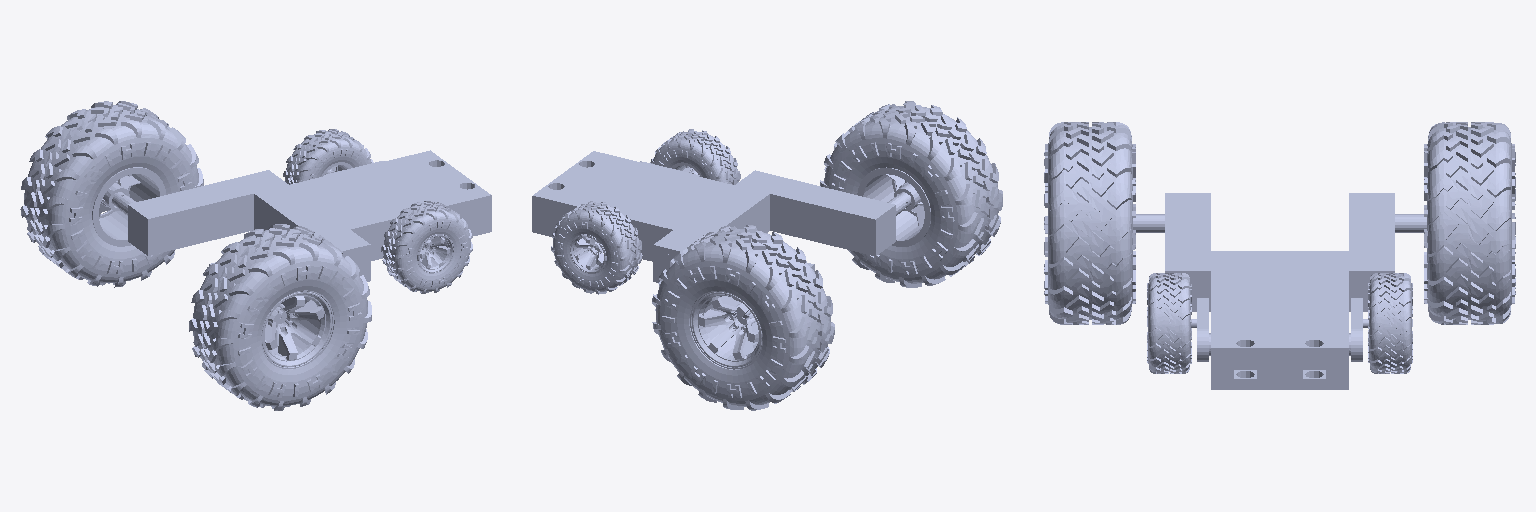
URDF robot description (optimus_rear):
<?xml version="1.0" encoding="utf-8"?>
<!-- This URDF was automatically created by SolidWorks to URDF Exporter! Originally created by [author] ([email redacted]) 
     Commit Version: 1.6.0-1-g15f4949  Build Version: 1.6.7594.29634
     For more information, please see http://wiki.ros.org/sw_urdf_exporter -->
<robot
  name="optimus_rear">
  <link
    name="optimus_rear">
    <inertial>
      <origin
        xyz="-0.032745 -5.5511E-17 0.43999"
        rpy="0 0 0" />
      <mass
        value="122.38" />
      <inertia
        ixx="4.8763"
        ixy="4.5526E-16"
        ixz="0.00048288"
        iyy="10.603"
        iyz="-1.9615E-16"
        izz="14.68" />
    </inertial>
    <visual>
      <origin
        xyz="0 0 0"
        rpy="0 0 0" />
      <geometry>
        <mesh
          filename="package://optimus_rear/meshes/optimus_rear.STL" />
      </geometry>
      <material
        name="">
        <color
          rgba="0.79216 0.81961 0.93333 1" />
      </material>
    </visual>
    <collision>
      <origin
        xyz="0 0 0"
        rpy="0 0 0" />
      <geometry>
        <mesh
          filename="package://optimus_rear/meshes/optimus_rear.STL" />
      </geometry>
    </collision>
  </link>
  <link
    name="RR_outer_wheel_connector_link">
    <inertial>
      <origin
        xyz="-0.32228 -0.1 -3.7623E-17"
        rpy="0 0 0" />
      <mass
        value="27.916" />
      <inertia
        ixx="0.19555"
        ixy="-3.124E-17"
        ixz="-1.1044E-17"
        iyy="1.4236"
        iyz="-4.1633E-19"
        izz="1.4141" />
    </inertial>
    <visual>
      <origin
        xyz="0 0 0"
        rpy="0 0 0" />
      <geometry>
        <mesh
          filename="package://optimus_rear/meshes/RR_outer_wheel_connector_link.STL" />
      </geometry>
      <material
        name="">
        <color
          rgba="0.79216 0.81961 0.93333 1" />
      </material>
    </visual>
    <collision>
      <origin
        xyz="0 0 0"
        rpy="0 0 0" />
      <geometry>
        <mesh
          filename="package://optimus_rear/meshes/RR_outer_wheel_connector_link.STL" />
      </geometry>
    </collision>
  </link>
  <joint
    name="RR_outer_wheel_connector_joint"
    type="revolute">
    <origin
      xyz="-0.4 -0.3 0.44"
      rpy="0 0 0" />
    <parent
      link="optimus_rear" />
    <child
      link="RR_outer_wheel_connector_link" />
    <axis
      xyz="0 -1 0" />
    <limit
      lower="0"
      upper="0"
      effort="0"
      velocity="0" />
  </joint>
  <link
    name="RR_outer_wheel_link">
    <inertial>
      <origin
        xyz="3.1807E-06 -0.51235 -4.8697E-07"
        rpy="0 0 0" />
      <mass
        value="41.762" />
      <inertia
        ixx="2.9874"
        ixy="7.5461E-06"
        ixz="-2.8589E-06"
        iyy="4.6324"
        iyz="-1.1613E-06"
        izz="2.9874" />
    </inertial>
    <visual>
      <origin
        xyz="0 0 0"
        rpy="0 0 0" />
      <geometry>
        <mesh
          filename="package://optimus_rear/meshes/RR_outer_wheel_link.STL" />
      </geometry>
      <material
        name="">
        <color
          rgba="0.79216 0.81961 0.93333 1" />
      </material>
    </visual>
    <collision>
      <origin
        xyz="0 0 0"
        rpy="0 0 0" />
      <geometry>
        <mesh
          filename="package://optimus_rear/meshes/RR_outer_wheel_link.STL" />
      </geometry>
    </collision>
  </link>
  <joint
    name="RR_outer_wheel_joint"
    type="continuous">
    <origin
      xyz="-0.6 0 0"
      rpy="0 0 0" />
    <parent
      link="RR_outer_wheel_connector_link" />
    <child
      link="RR_outer_wheel_link" />
    <axis
      xyz="0 -1 0" />
  </joint>
  <link
    name="RL_outer_wheel_connector_link">
    <inertial>
      <origin
        xyz="-0.32228 0.1 1.6733E-19"
        rpy="0 0 0" />
      <mass
        value="27.916" />
      <inertia
        ixx="0.19555"
        ixy="2.891E-17"
        ixz="-1.0999E-18"
        iyy="1.4236"
        iyz="-2.313E-17"
        izz="1.4141" />
    </inertial>
    <visual>
      <origin
        xyz="0 0 0"
        rpy="0 0 0" />
      <geometry>
        <mesh
          filename="package://optimus_rear/meshes/RL_outer_wheel_connector_link.STL" />
      </geometry>
      <material
        name="">
        <color
          rgba="0.79216 0.81961 0.93333 1" />
      </material>
    </visual>
    <collision>
      <origin
        xyz="0 0 0"
        rpy="0 0 0" />
      <geometry>
        <mesh
          filename="package://optimus_rear/meshes/RL_outer_wheel_connector_link.STL" />
      </geometry>
    </collision>
  </link>
  <joint
    name="RL_outer_wheel_connector_joint"
    type="revolute">
    <origin
      xyz="-0.4 0.3 0.44"
      rpy="0 0 0" />
    <parent
      link="optimus_rear" />
    <child
      link="RL_outer_wheel_connector_link" />
    <axis
      xyz="0 -1 0" />
    <limit
      lower="0"
      upper="0"
      effort="0"
      velocity="0" />
  </joint>
  <link
    name="RL_outer_wheel_link">
    <inertial>
      <origin
        xyz="2.27436845356976E-07 0.512347883757839 -3.20970488855976E-06"
        rpy="0 0 0" />
      <mass
        value="41.761984166342" />
      <inertia
        ixx="2.98738973759653"
        ixy="-5.45598729708646E-07"
        ixz="-1.35757783605366E-06"
        iyy="4.63242150319622"
        iyz="7.61544684929905E-06"
        izz="2.98740853390165" />
    </inertial>
    <visual>
      <origin
        xyz="0 0 0"
        rpy="0 0 0" />
      <geometry>
        <mesh
          filename="package://optimus_rear/meshes/RL_outer_wheel_link.STL" />
      </geometry>
      <material
        name="">
        <color
          rgba="0.792156862745098 0.819607843137255 0.933333333333333 1" />
      </material>
    </visual>
    <collision>
      <origin
        xyz="0 0 0"
        rpy="0 0 0" />
      <geometry>
        <mesh
          filename="package://optimus_rear/meshes/RL_outer_wheel_link.STL" />
      </geometry>
    </collision>
  </link>
  <joint
    name="RL_outer_wheel_joint"
    type="continuous">
    <origin
      xyz="-0.6 0 0"
      rpy="0 0 0" />
    <parent
      link="RL_outer_wheel_connector_link" />
    <child
      link="RL_outer_wheel_link" />
    <axis
      xyz="0 1 0" />
  </joint>
  <link
    name="RR_inner_wheel_connector_link">
    <inertial>
      <origin
        xyz="-0.124624737169442 -0.0341754333918177 -2.32784954891843E-17"
        rpy="0 0 0" />
      <mass
        value="2.85749443017902" />
      <inertia
        ixx="0.00581241279075832"
        ixy="-0.000293640119060309"
        ixz="-2.44150510912887E-18"
        iyy="0.0403263961411894"
        iyz="-2.95771892381289E-19"
        izz="0.03581067609395" />
    </inertial>
    <visual>
      <origin
        xyz="0 0 0"
        rpy="0 0 0" />
      <geometry>
        <mesh
          filename="package://optimus_rear/meshes/RR_inner_wheel_connector_link.STL" />
      </geometry>
      <material
        name="">
        <color
          rgba="0.792156862745098 0.819607843137255 0.933333333333333 1" />
      </material>
    </visual>
    <collision>
      <origin
        xyz="0 0 0"
        rpy="0 0 0" />
      <geometry>
        <mesh
          filename="package://optimus_rear/meshes/RR_inner_wheel_connector_link.STL" />
      </geometry>
    </collision>
  </link>
  <joint
    name="RR_inner_wheel_connector_joint"
    type="revolute">
    <origin
      xyz="0.25 -0.3 0.44"
      rpy="0 0 0" />
    <parent
      link="optimus_rear" />
    <child
      link="RR_inner_wheel_connector_link" />
    <axis
      xyz="0 1 0" />
    <limit
      lower="0"
      upper="0"
      effort="0"
      velocity="0" />
  </joint>
  <link
    name="RR_inner_wheel_link">
    <inertial>
      <origin
        xyz="2.97853836375012E-06 -0.122556779088173 1.53650836933355E-06"
        rpy="0 0 0" />
      <mass
        value="5.00504892402156" />
      <inertia
        ixx="0.0924068394372551"
        ixy="2.12138162536787E-07"
        ixz="2.41480228589312E-07"
        iyy="0.144720367920822"
        iyz="1.09196430736826E-07"
        izz="0.0924064945212721" />
    </inertial>
    <visual>
      <origin
        xyz="0 0 0"
        rpy="0 0 0" />
      <geometry>
        <mesh
          filename="package://optimus_rear/meshes/RR_inner_wheel_link.STL" />
      </geometry>
      <material
        name="">
        <color
          rgba="0.792156862745098 0.819607843137255 0.933333333333333 1" />
      </material>
    </visual>
    <collision>
      <origin
        xyz="0 0 0"
        rpy="0 0 0" />
      <geometry>
        <mesh
          filename="package://optimus_rear/meshes/RR_inner_wheel_link.STL" />
      </geometry>
    </collision>
  </link>
  <joint
    name="RR_inner_wheel_joint"
    type="continuous">
    <origin
      xyz="-0.22 -0.06 0"
      rpy="0 0 0" />
    <parent
      link="RR_inner_wheel_connector_link" />
    <child
      link="RR_inner_wheel_link" />
    <axis
      xyz="0 -1 0" />
  </joint>
  <link
    name="RL_inner_wheel_connector_link">
    <inertial>
      <origin
        xyz="-0.124624737169442 0.0341754333918178 1.39892114216578E-17"
        rpy="0 0 0" />
      <mass
        value="2.85749443017901" />
      <inertia
        ixx="0.0058124127907583"
        ixy="0.00029364011906031"
        ixz="-1.481758077131E-18"
        iyy="0.0403263961411894"
        iyz="-1.35800815531281E-19"
        izz="0.03581067609395" />
    </inertial>
    <visual>
      <origin
        xyz="0 0 0"
        rpy="0 0 0" />
      <geometry>
        <mesh
          filename="package://optimus_rear/meshes/RL_inner_wheel_connector_link.STL" />
      </geometry>
      <material
        name="">
        <color
          rgba="0.792156862745098 0.819607843137255 0.933333333333333 1" />
      </material>
    </visual>
    <collision>
      <origin
        xyz="0 0 0"
        rpy="0 0 0" />
      <geometry>
        <mesh
          filename="package://optimus_rear/meshes/RL_inner_wheel_connector_link.STL" />
      </geometry>
    </collision>
  </link>
  <joint
    name="RL_inner_wheel_connector_joint"
    type="revolute">
    <origin
      xyz="0.25 0.3 0.44"
      rpy="0 0 0" />
    <parent
      link="optimus_rear" />
    <child
      link="RL_inner_wheel_connector_link" />
    <axis
      xyz="0 -1 0" />
    <limit
      lower="0"
      upper="0"
      effort="0"
      velocity="0" />
  </joint>
  <link
    name="RL_inner_wheel_link">
    <inertial>
      <origin
        xyz="1.62196039494786E-06 0.122556778244548 -2.93282526099629E-06"
        rpy="0 0 0" />
      <mass
        value="5.00504874494794" />
      <inertia
        ixx="0.0924065097017377"
        ixy="-1.15654231958694E-07"
        ixz="-2.51695624288652E-07"
        iyy="0.144720367765485"
        iyz="2.08685034225381E-07"
        izz="0.0924068240448746" />
    </inertial>
    <visual>
      <origin
        xyz="0 0 0"
        rpy="0 0 0" />
      <geometry>
        <mesh
          filename="package://optimus_rear/meshes/RL_inner_wheel_link.STL" />
      </geometry>
      <material
        name="">
        <color
          rgba="0.792156862745098 0.819607843137255 0.933333333333333 1" />
      </material>
    </visual>
    <collision>
      <origin
        xyz="0 0 0"
        rpy="0 0 0" />
      <geometry>
        <mesh
          filename="package://optimus_rear/meshes/RL_inner_wheel_link.STL" />
      </geometry>
    </collision>
  </link>
  <joint
    name="RL_inner_wheel_joint"
    type="continuous">
    <origin
      xyz="-0.22 0.06 0"
      rpy="0 0 0" />
    <parent
      link="RL_inner_wheel_connector_link" />
    <child
      link="RL_inner_wheel_link" />
    <axis
      xyz="0 1 0" />
  </joint>
</robot>

--- Render facts (derived) ---
3 views of the same robot in one strip: view 1: azimuth 30°, elevation 25°; view 2: azimuth 150°, elevation 25°; view 3: azimuth 270°, elevation 25° (orthographic).
Robot: optimus_rear — 9 links, 8 joints (4 revolute, 4 continuous); root link optimus_rear; default pose: all joints at 0.
Visible links, largest first — view 1: RR_outer_wheel_link, RL_outer_wheel_link, optimus_rear, RL_outer_wheel_connector_link, RR_inner_wheel_link, RL_inner_wheel_link, RR_outer_wheel_connector_link; view 2: RL_outer_wheel_link, RR_outer_wheel_link, optimus_rear, RR_outer_wheel_connector_link, RL_inner_wheel_link, RR_inner_wheel_link, RL_outer_wheel_connector_link; view 3: optimus_rear, RL_outer_wheel_link, RR_outer_wheel_link, RL_inner_wheel_link, RR_inner_wheel_link, RR_outer_wheel_connector_link, RL_outer_wheel_connector_link, RR_inner_wheel_connector_link, RL_inner_wheel_connector_link.
Link boxes in pixels (bbox=[...]): RR_outer_wheel_link: bbox=[189, 224, 371, 410]; RL_outer_wheel_link: bbox=[20, 101, 203, 287]; optimus_rear: bbox=[254, 150, 491, 275]; RL_outer_wheel_connector_link: bbox=[128, 170, 288, 255]; RR_inner_wheel_link: bbox=[381, 201, 472, 293]; RL_inner_wheel_link: bbox=[283, 129, 373, 184]; RR_outer_wheel_connector_link: bbox=[209, 230, 370, 281]; RL_outer_wheel_link: bbox=[652, 225, 834, 410]; RR_outer_wheel_link: bbox=[820, 101, 1002, 287]; optimus_rear: bbox=[532, 151, 769, 272]; RR_outer_wheel_connector_link: bbox=[736, 170, 895, 256]; RL_inner_wheel_link: bbox=[551, 201, 642, 294]; RR_inner_wheel_link: bbox=[650, 129, 740, 184]; RL_outer_wheel_connector_link: bbox=[653, 230, 814, 301]; optimus_rear: bbox=[1211, 251, 1348, 389]; RL_outer_wheel_link: bbox=[1395, 122, 1515, 324]; RR_outer_wheel_link: bbox=[1044, 122, 1164, 324]; RL_inner_wheel_link: bbox=[1363, 273, 1412, 373]; RR_inner_wheel_link: bbox=[1147, 273, 1196, 373]; RR_outer_wheel_connector_link: bbox=[1165, 193, 1210, 311]; RL_outer_wheel_connector_link: bbox=[1349, 193, 1394, 311]; RR_inner_wheel_connector_link: bbox=[1197, 298, 1210, 361]; RL_inner_wheel_connector_link: bbox=[1349, 298, 1362, 361].
Bounding box of the posed robot: 1.94 × 2.05 × 0.8842 m (x, y, z).
9 mesh visuals loaded from 9 distinct referenced files (9 binary STL).